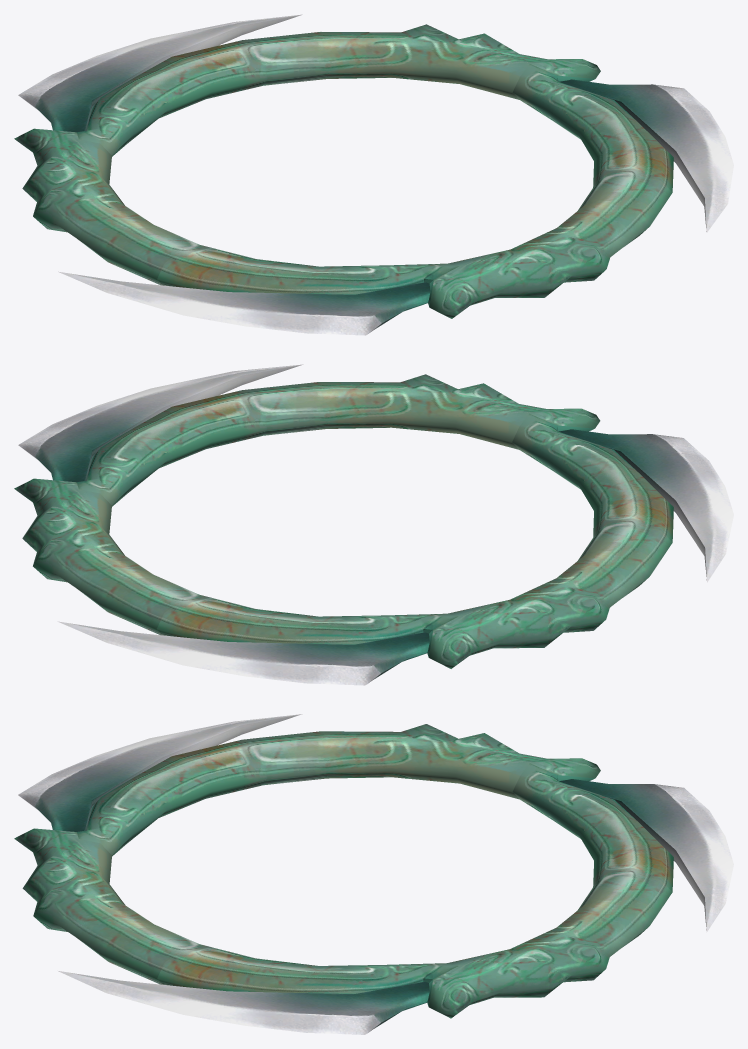
Rendered from totem1.FBX.
3 views of the same model, one above another, from view 1: azimuth 30°, elevation 25°; view 2: azimuth 150°, elevation 25°; view 3: azimuth 270°, elevation 25° (orthographic).
Parts seen in each view (by area): view 1: Object24; view 2: Object24; view 3: Object24.
Part boxes in pixels (left/top/right/bottom): Object24: left=14, top=14, right=733, bottom=335; Object24: left=14, top=364, right=733, bottom=685; Object24: left=14, top=714, right=733, bottom=1034.
Size of the model in its own units: 18.56 by 0.8902 by 17.59.
